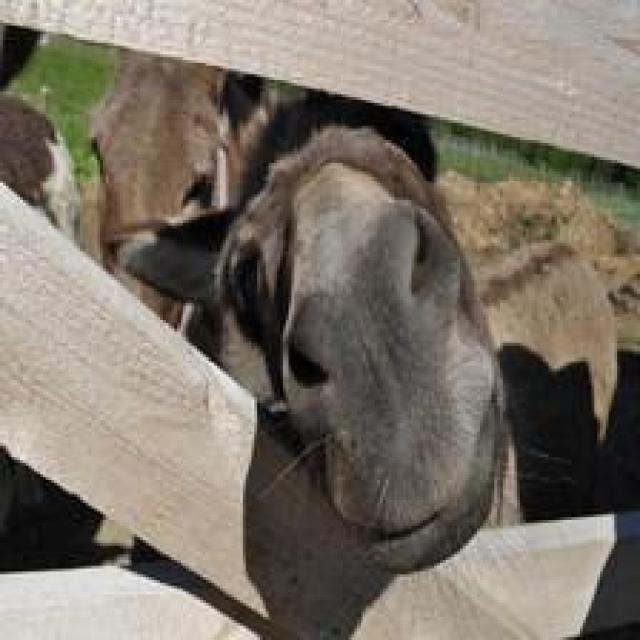Donkey: (114, 123, 612, 574), (80, 43, 437, 340)
